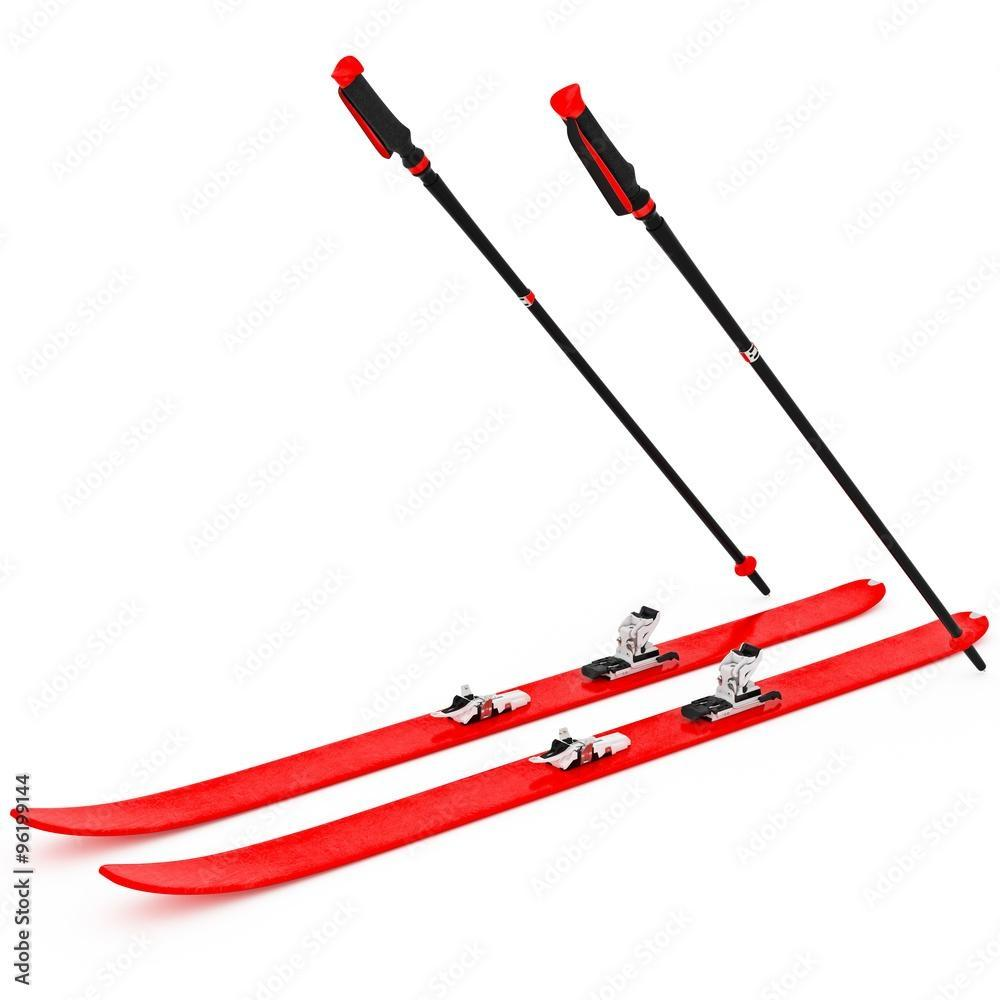Skis: (56, 75, 928, 910)
